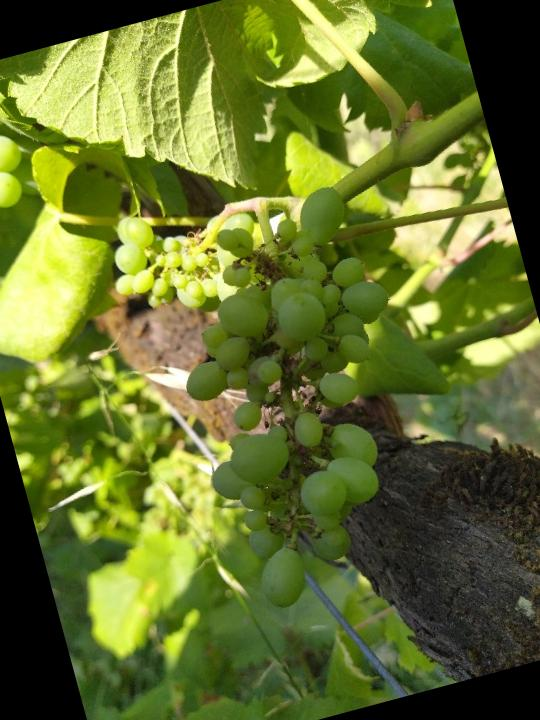grape: (133, 162, 468, 622), (94, 196, 223, 330)
